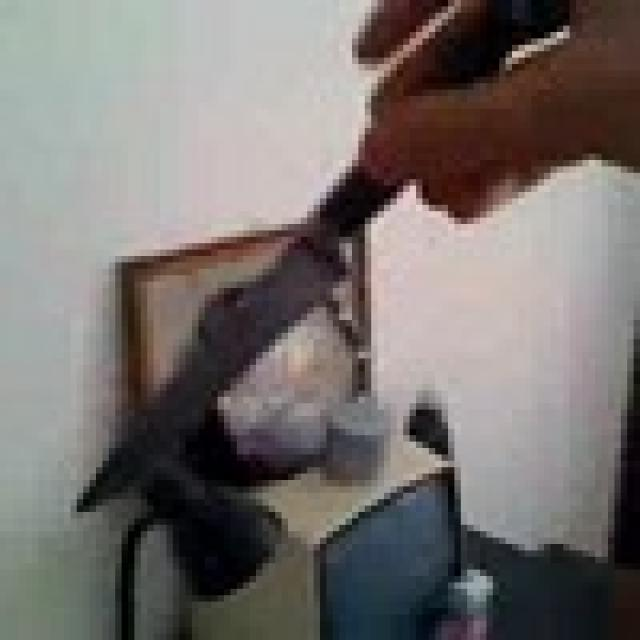Knife_Handle: (77, 0, 640, 512)
